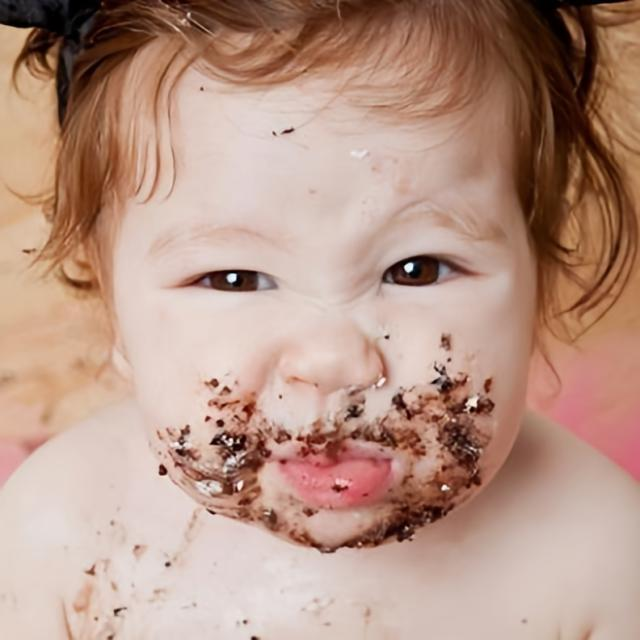sad: (89, 19, 541, 555)
